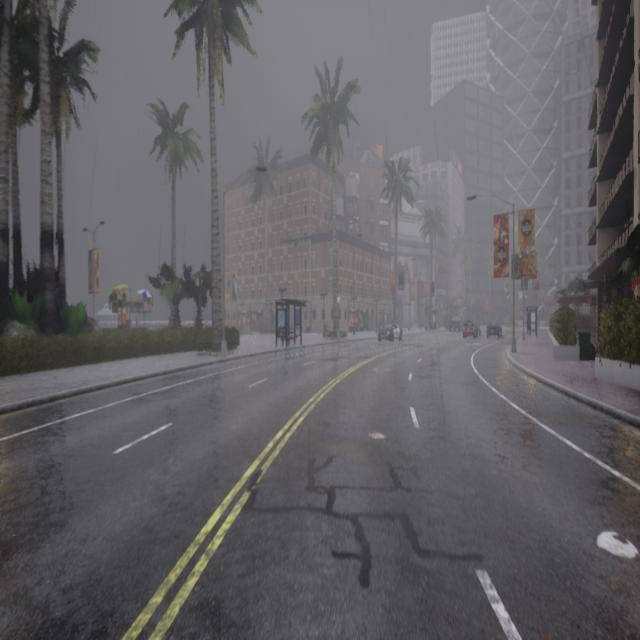9: (524, 292, 528, 299), (507, 292, 509, 299)
bien_hieu_lenh: (524, 294, 527, 298), (507, 296, 509, 298)
